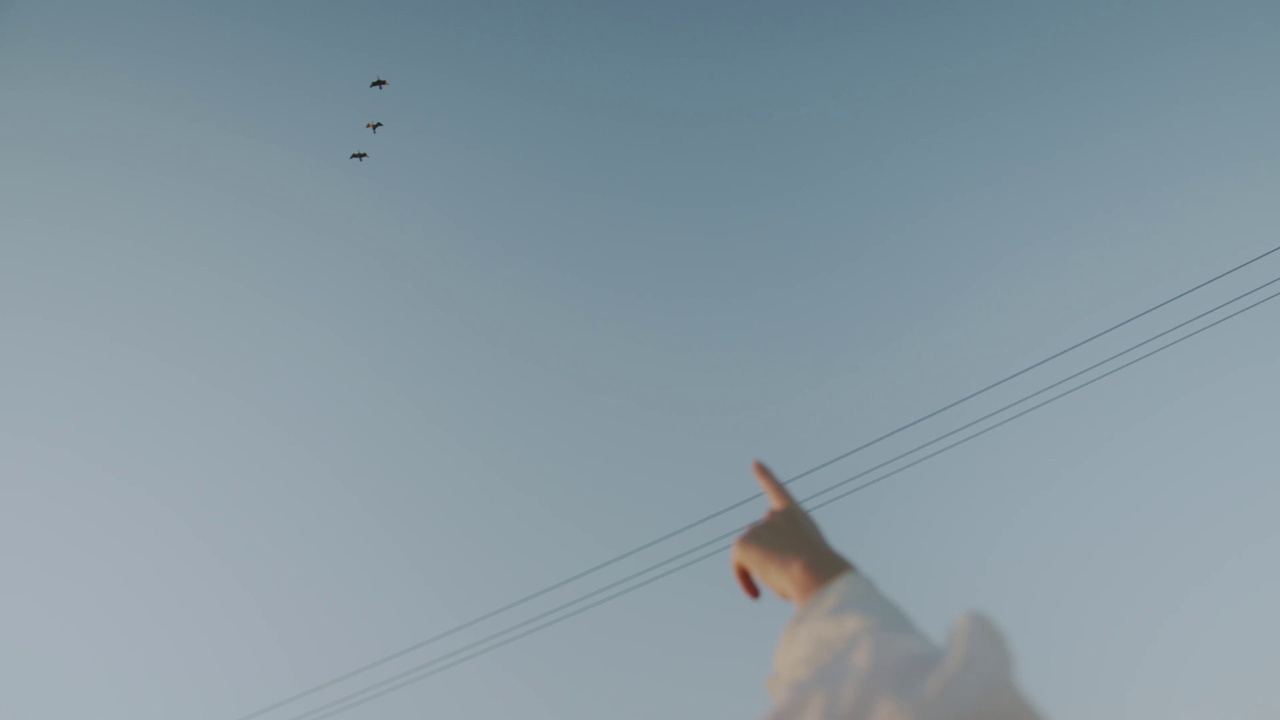bird: (368, 74, 388, 89), (350, 149, 370, 161), (364, 120, 382, 133)
